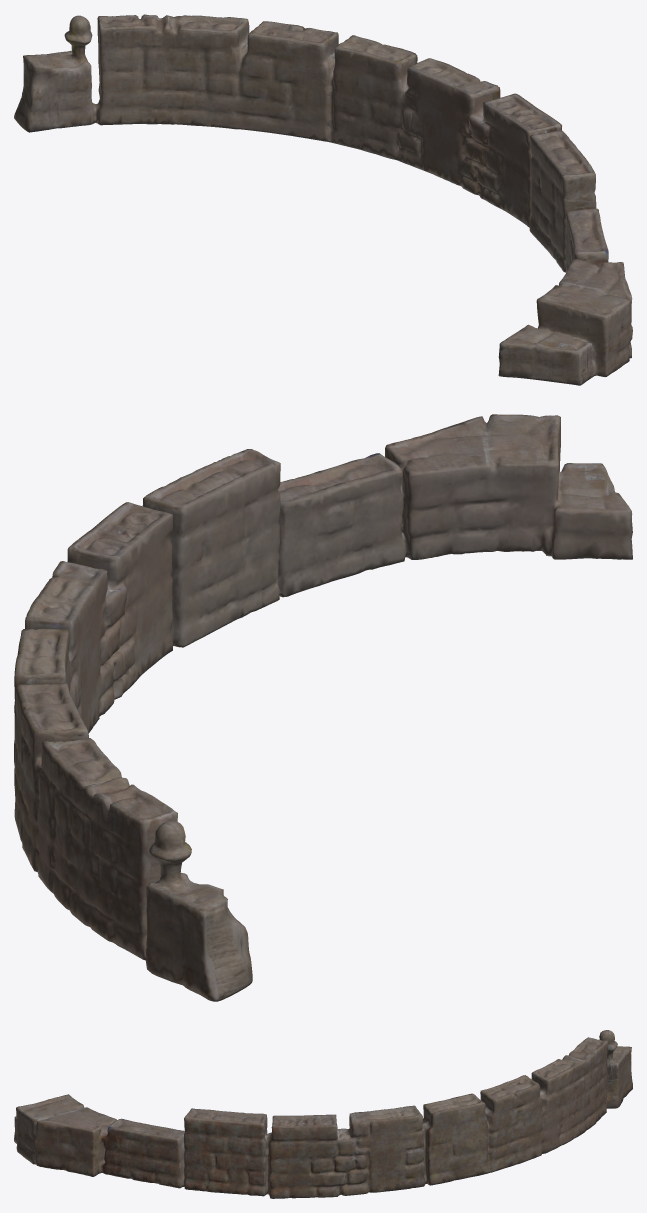
3 views of the same model, one above another, from view 1: azimuth 30°, elevation 25°; view 2: azimuth 150°, elevation 25°; view 3: azimuth 270°, elevation 25° (orthographic). The views are drawn at different scales.
Visible parts, largest first — view 1: file1; view 2: file1; view 3: file1.
Part boxes in pixels (x1,y1,x2,y2): file1: (14,14,632,385); file1: (14,414,632,1001); file1: (14,1030,632,1198).
Size of the model in its own units: 0.8653 by 0.2699 by 2.
Materials: 1 (1 with a texture image).
